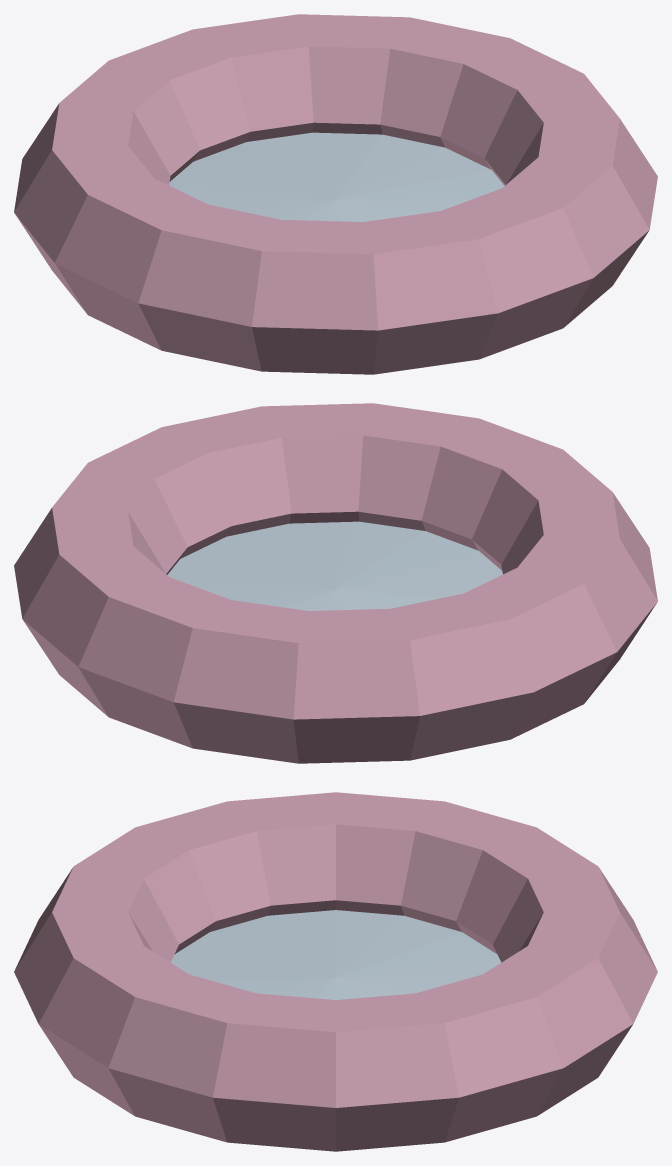
The model's file is cat_bed.glb.
The picture shows the model from 3 angles, top to bottom: view 1: azimuth 30°, elevation 25°; view 2: azimuth 150°, elevation 25°; view 3: azimuth 270°, elevation 25°; orthographic projection.
Size of the model in its own units: 0.55 by 0.1313 by 0.55.
